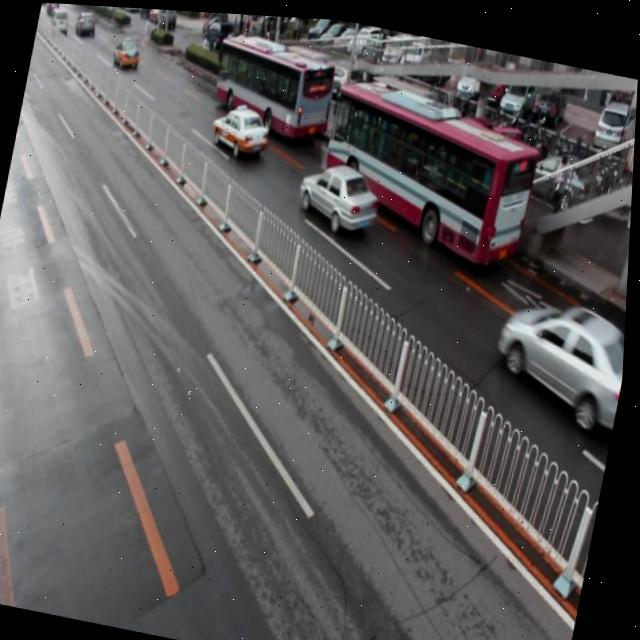car: (487, 282, 629, 428), (295, 150, 386, 236), (210, 95, 274, 158)
van: (313, 69, 545, 267), (208, 25, 341, 141)
